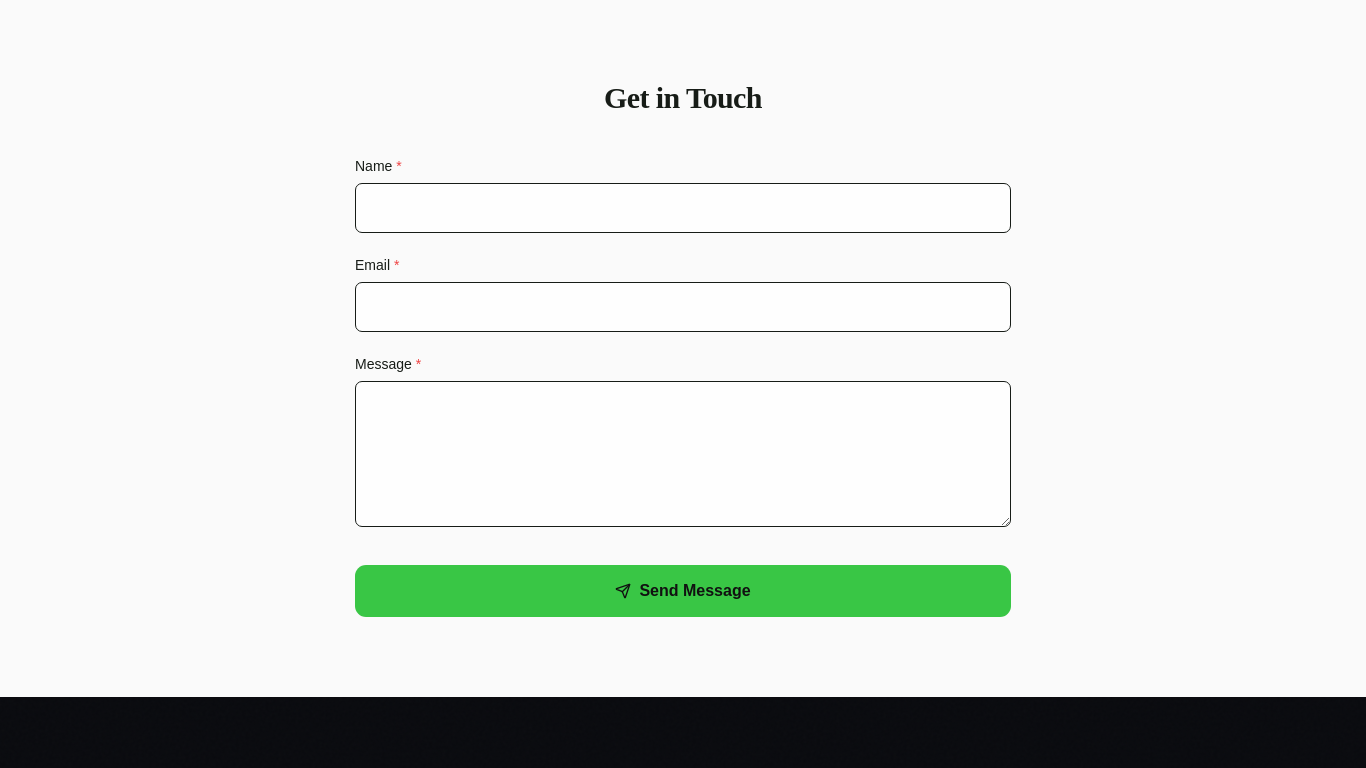
Scenario: FormContact › shows validation errors when submitting with empty required fields
Click the button "Send Message": (683, 591) 355,565 -> 1011,617
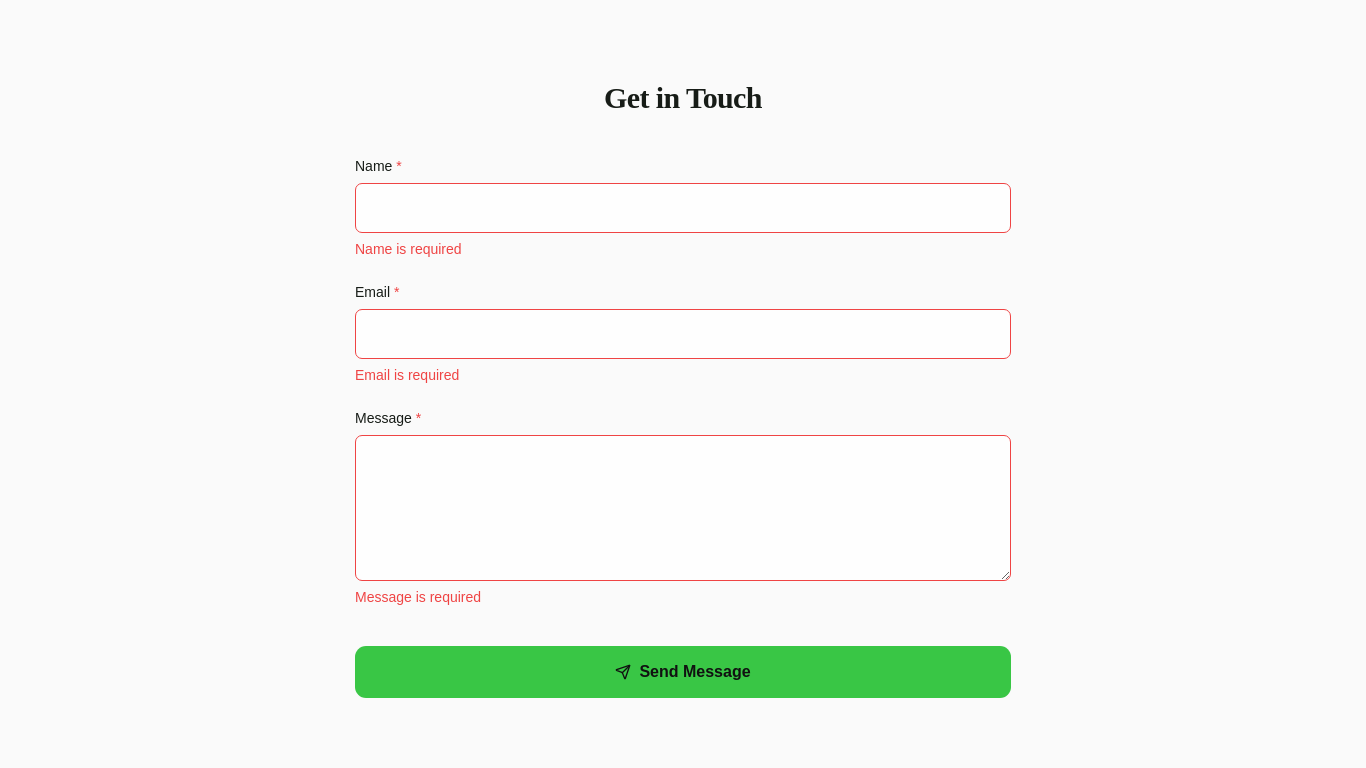
Now the text "Name is required" is shown, box 355,241 -> 462,257
Now the text "Email is required" is shown, box 355,367 -> 459,383
Now the text "Message is required" is shown, box 355,589 -> 481,605
